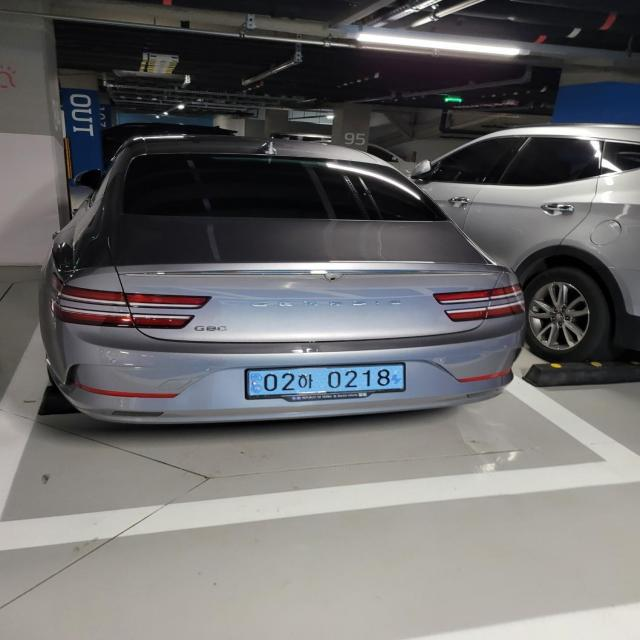EV_plate: (243, 363, 408, 406)
car: (30, 129, 535, 434)
